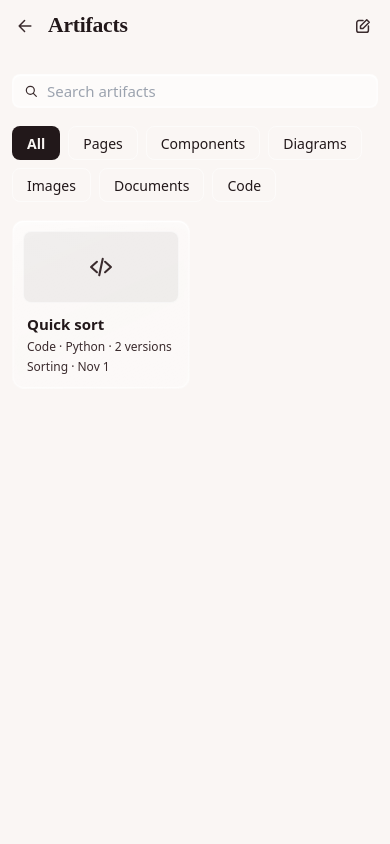
it: <ArtifactsGallery /> › closing the panel hands focus back to the card; a gone artifact says so
Click the button "Quick sort Code · Python · 2 versions Sorting · Nov 1" at (101, 304), box [12,220,190,388]
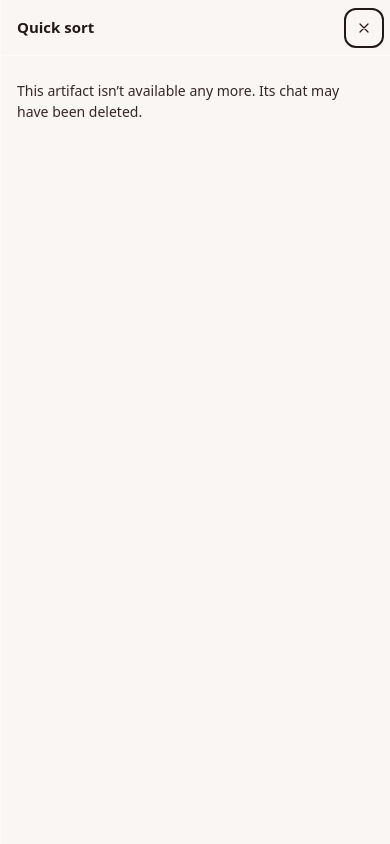
Check: the text "This artifact isn’t available any more. Its chat may have been deleted." is shown, box [17,81,339,121]
Click the button named "Close the artifact" at (364, 28), box [348,12,380,44]
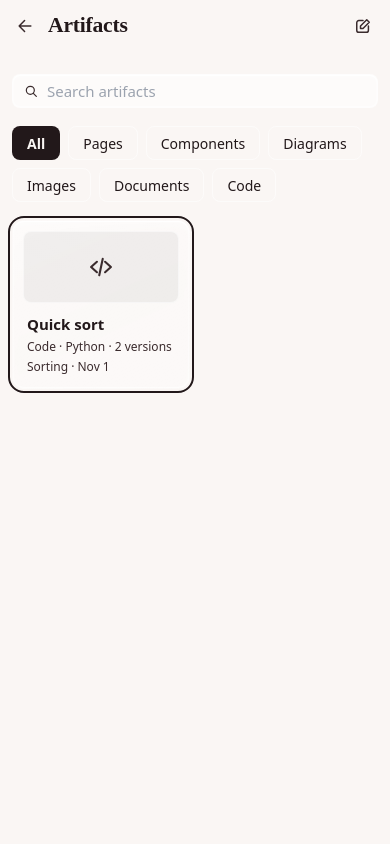
Check: the dialog is gone
